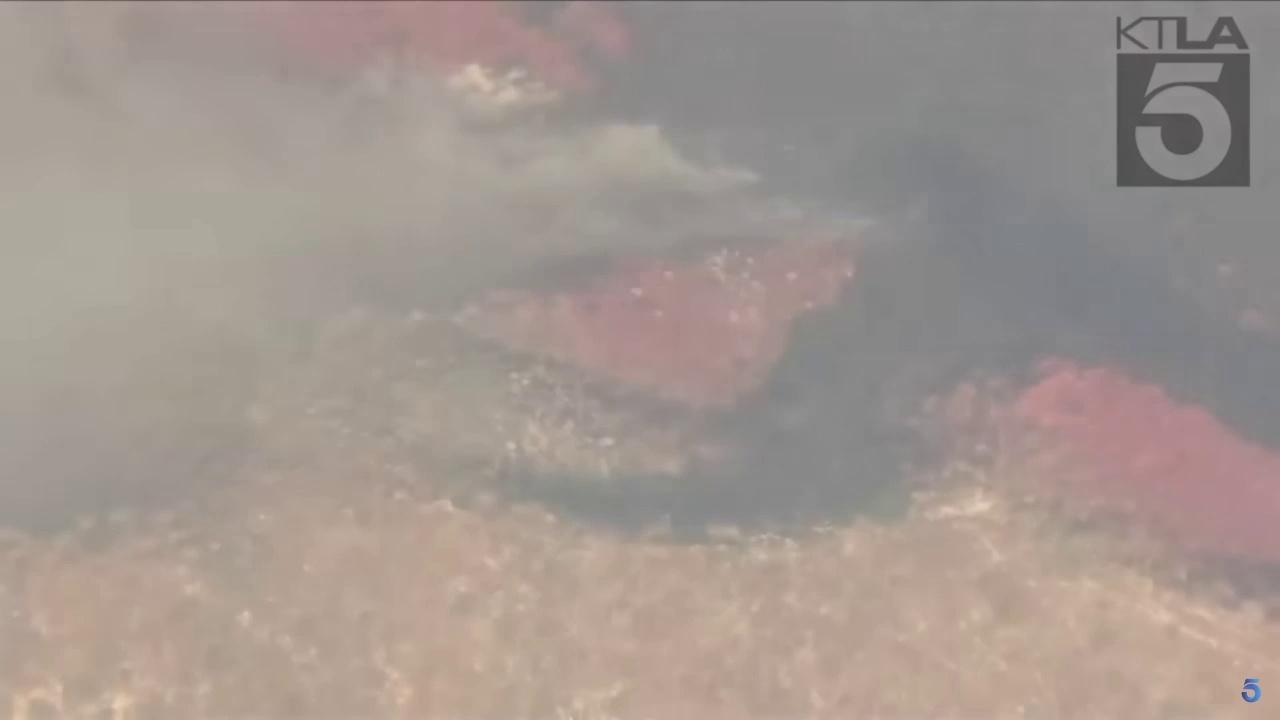smoke: (0, 0, 890, 493)
